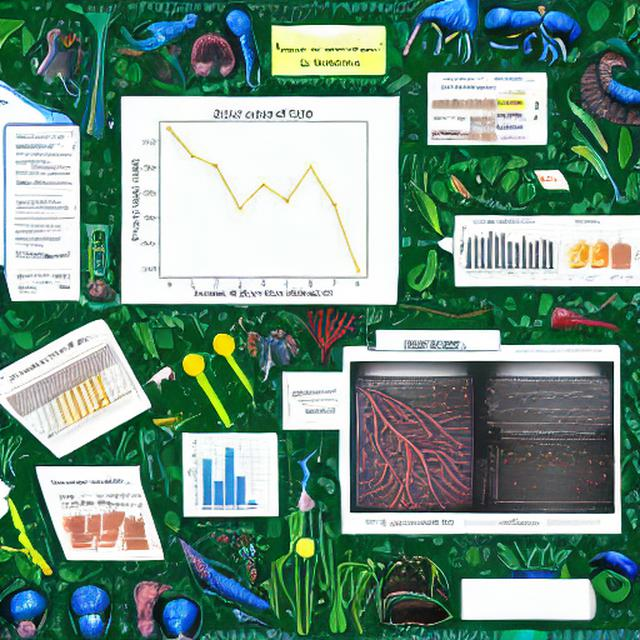Graph: (125, 97, 395, 300), (483, 435, 614, 513), (186, 436, 268, 513), (457, 219, 556, 278)
